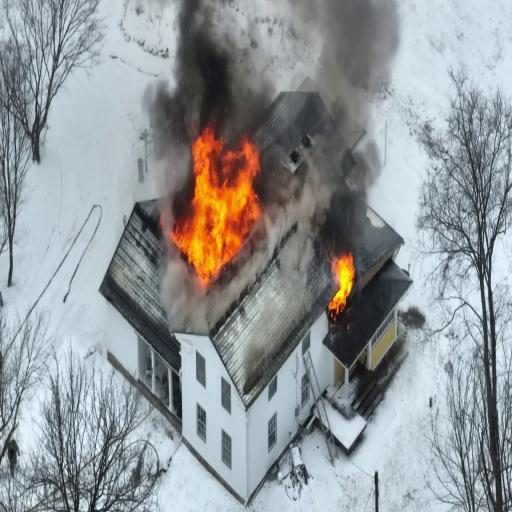fire: (195, 134, 260, 236), (170, 214, 244, 270), (325, 249, 356, 313)
smoke: (200, 44, 248, 119)
